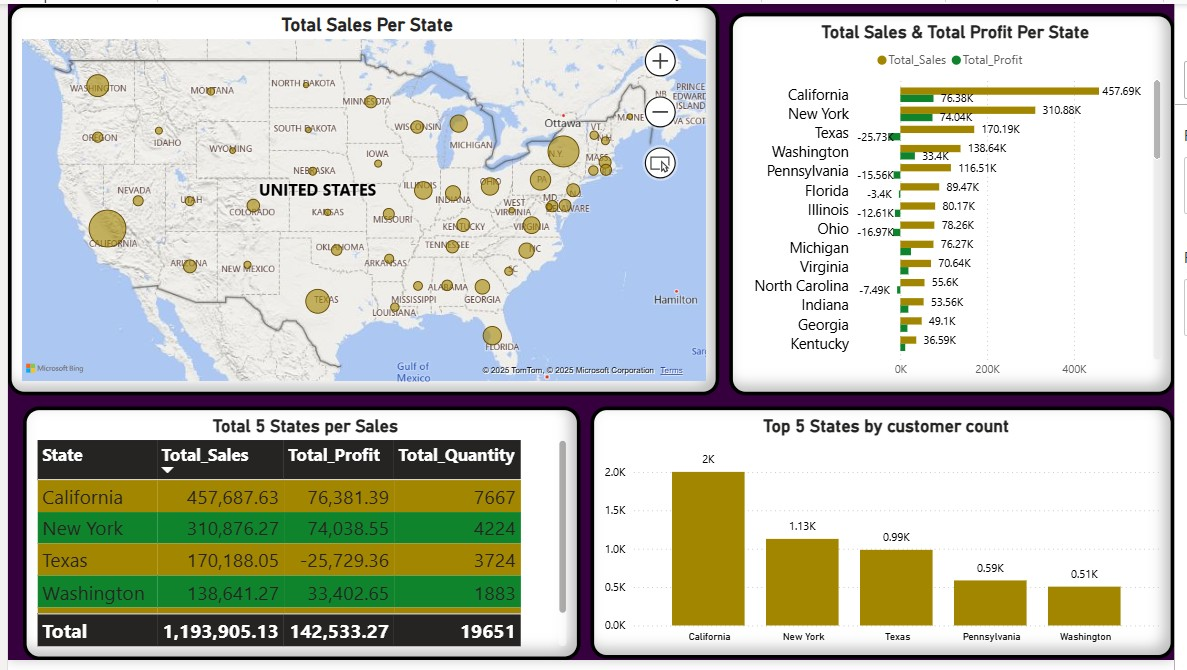

This screenshot's page, from the dashboard's own definition file:
{"tool":"powerbi","page":{"name":"Regional Performance","canvas":[1280,720],"ordinal":2},"visuals":[{"type":"map","title":"Total Sales Per State","fields":{"Category":["superstore_dataset.state"],"Size":["superstore_dataset.Total_Sales"]},"box":[0,0,780.8,429.5],"z":0},{"type":"clusteredBarChart","title":"Total Sales & Total Profit Per State","fields":{"Category":["superstore_dataset.state"],"Y":["superstore_dataset.Total_Sales","superstore_dataset.Total_Profit"]},"box":[791.8,9.6,488.5,419.9],"z":1000},{"type":"tableEx","title":"Total 5 States per Sales","fields":{"Values":["superstore_dataset.state","superstore_dataset.Total_Sales","superstore_dataset.Total_Profit","superstore_dataset.Total_Quantity"]},"box":[16.5,441.9,612,278.6],"z":2000},{"type":"clusteredColumnChart","title":"Top 5 States by customer count","fields":{"Category":["superstore_dataset.State"],"Y":["CountNonNull(superstore_dataset.customer)"]},"box":[639.5,441.9,640.8,277.2],"z":3000}]}

Visuals, with their boxes in screenshot pixels (x1, y1, x2, y2), scaled from the page's 1280x720 canvas onto the 1187x670 screenshot:
"Total Sales Per State" map: (left=0, top=0, right=724, bottom=400)
"Total Sales & Total Profit Per State" clusteredBarChart: (left=734, top=9, right=1186, bottom=400)
"Total 5 States per Sales" tableEx: (left=15, top=411, right=583, bottom=669)
"Top 5 States by customer count" clusteredColumnChart: (left=593, top=411, right=1186, bottom=669)
